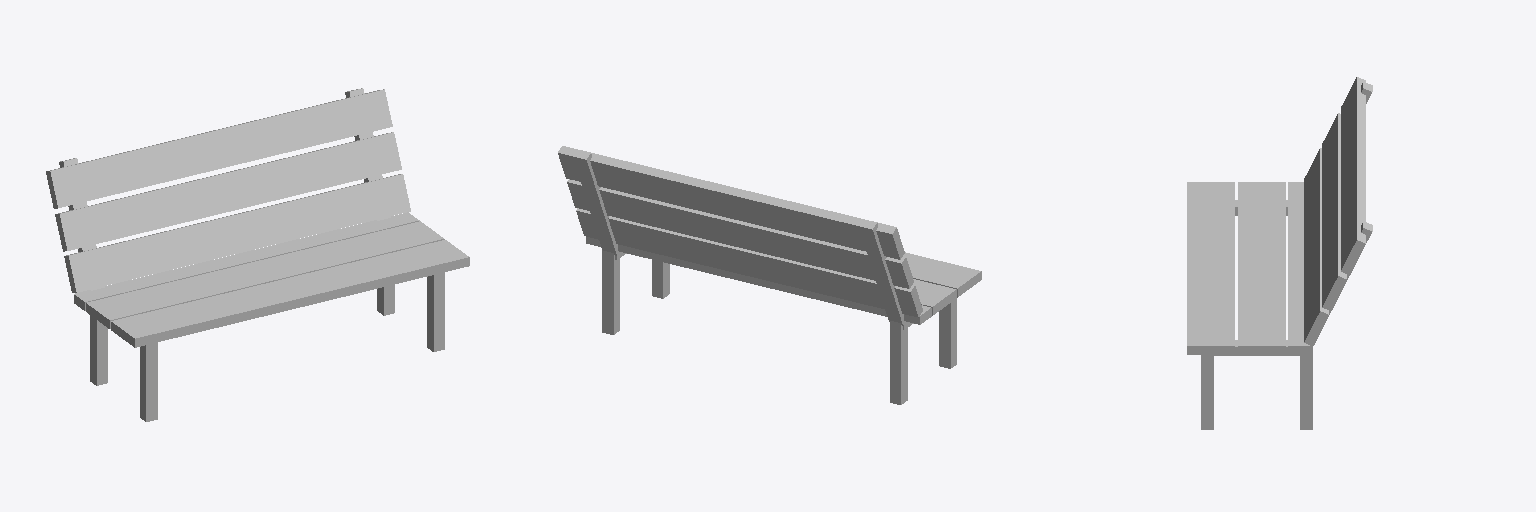
Rendered from banco.obj.
3 views of the same model, side by side, from view 1: azimuth 30°, elevation 25°; view 2: azimuth 150°, elevation 25°; view 3: azimuth 270°, elevation 25° (orthographic).
Visible parts, largest first — view 1: Box001; view 2: Box001; view 3: Box001.
Part boxes in pixels (bbox=[...]): Box001: bbox=[46, 88, 469, 421]; Box001: bbox=[558, 146, 981, 404]; Box001: bbox=[1187, 77, 1372, 429].
Bounding box in the file's own units: 7.41 × 4.27 × 3.55.